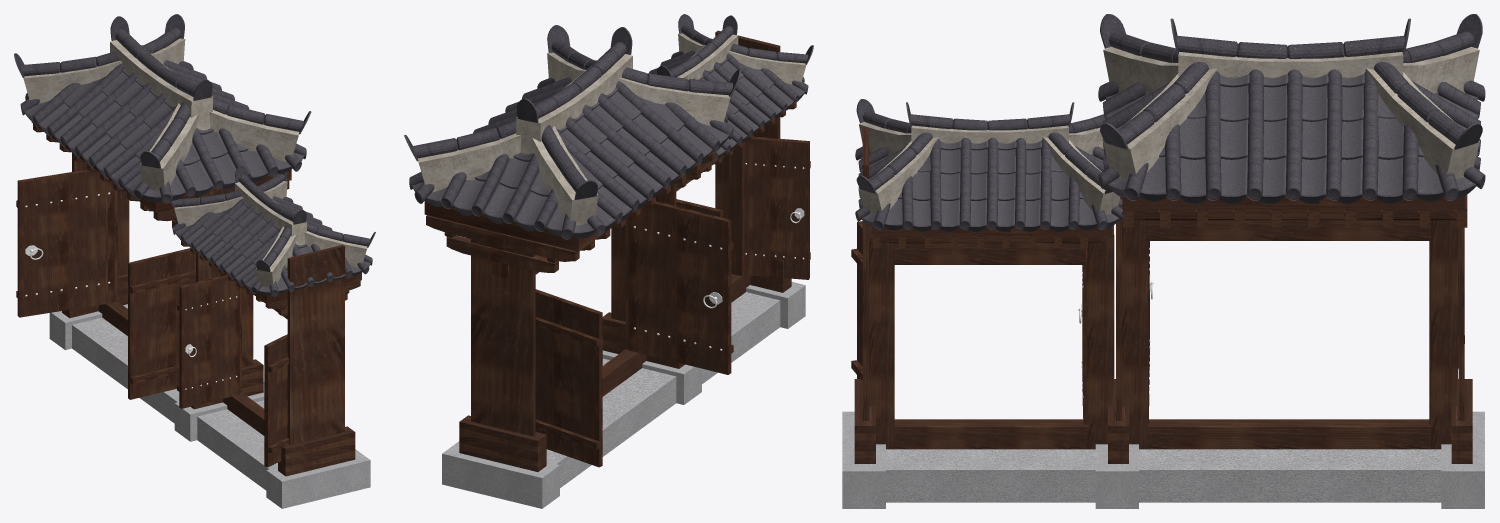
File: SM_Smallgate_5.fbx
3 renders of one model, left to right at view 1: azimuth 30°, elevation 25°; view 2: azimuth 150°, elevation 25°; view 3: azimuth 270°, elevation 25°, orthographic. The views are drawn at different scales.
Visible parts, largest first — view 1: SM_Smallgate_5; view 2: SM_Smallgate_5; view 3: SM_Smallgate_5.
Boxes of the visible parts, x1,y1,x2,y2 form: SM_Smallgate_5: (14, 14, 375, 508); SM_Smallgate_5: (404, 14, 813, 508); SM_Smallgate_5: (842, 14, 1485, 508).
Bounding box in the file's own units: 266 × 621 × 488.
6 materials, 6 textured.
